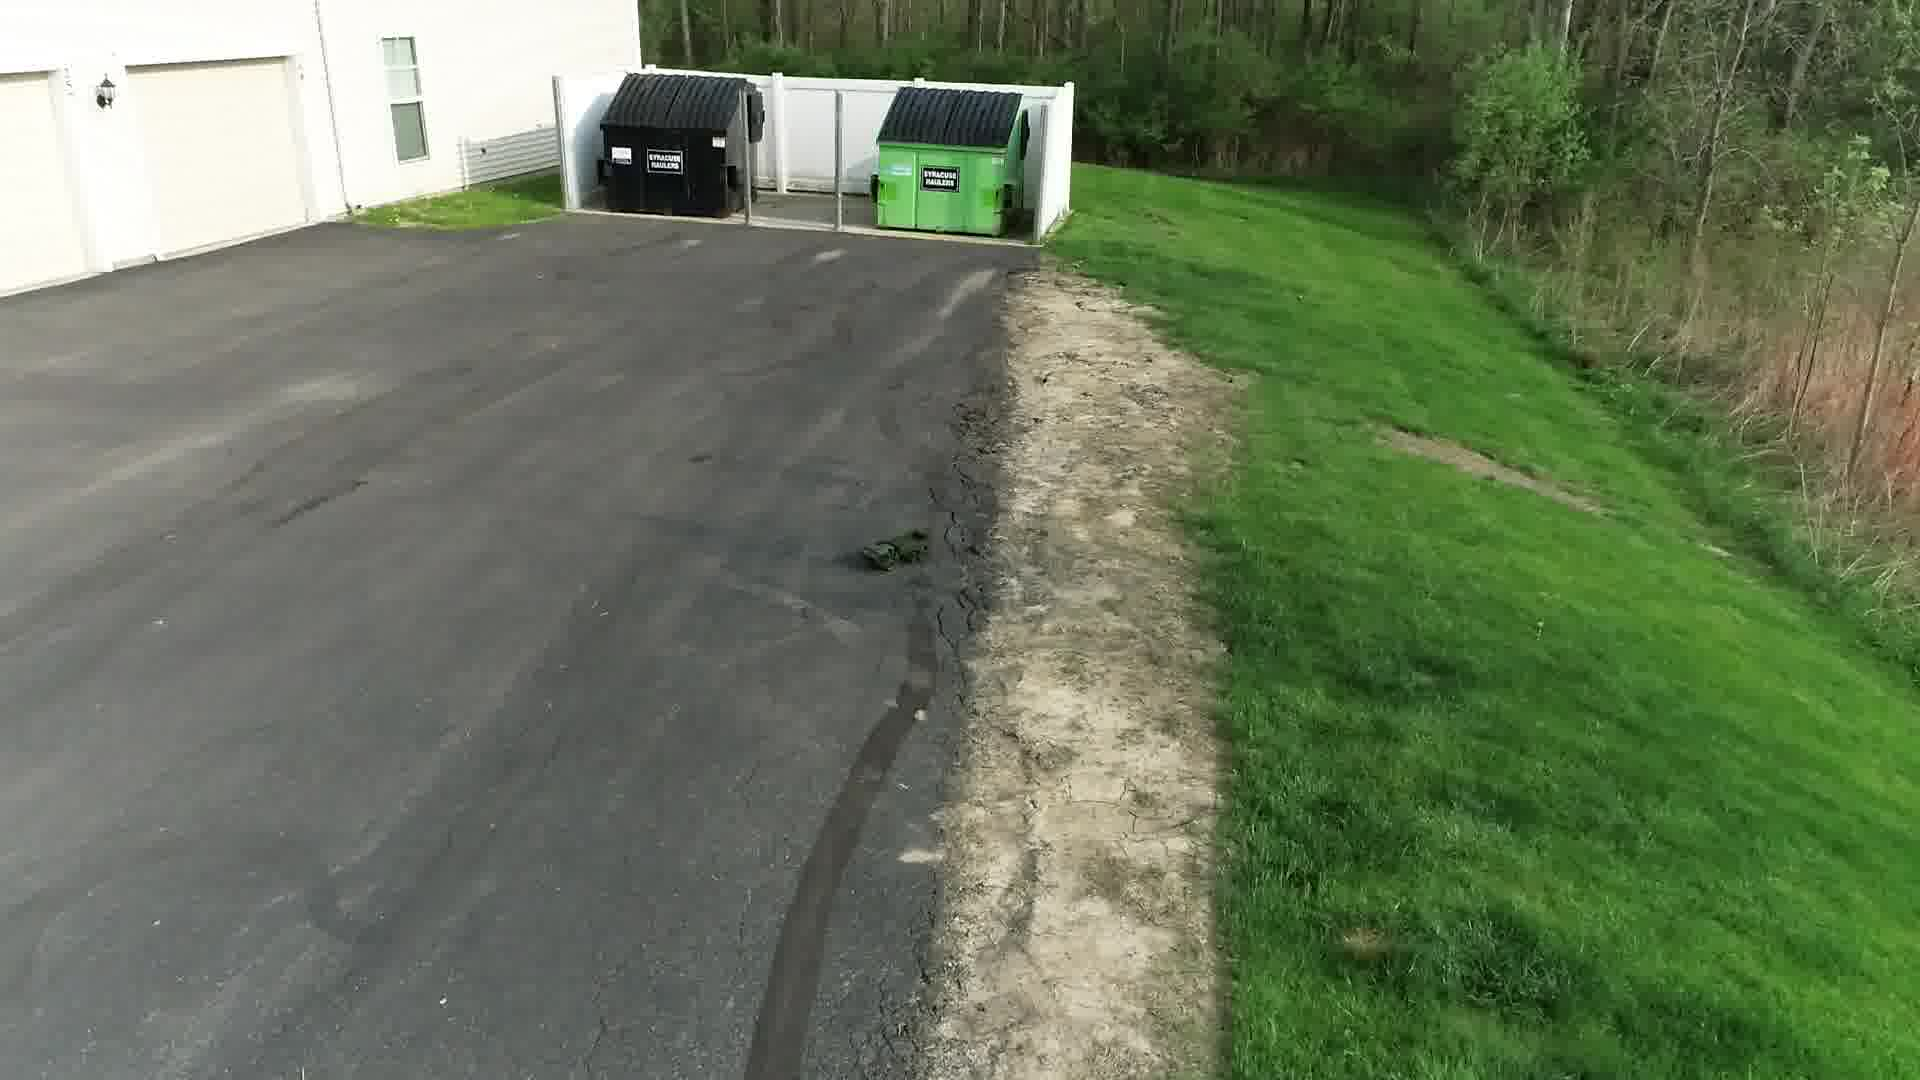transporter9: (857, 526, 934, 574)
